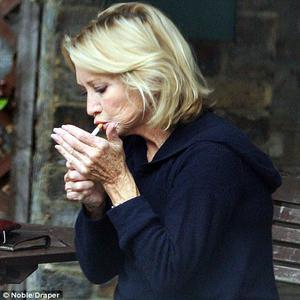cigarette: (87, 121, 105, 141)
